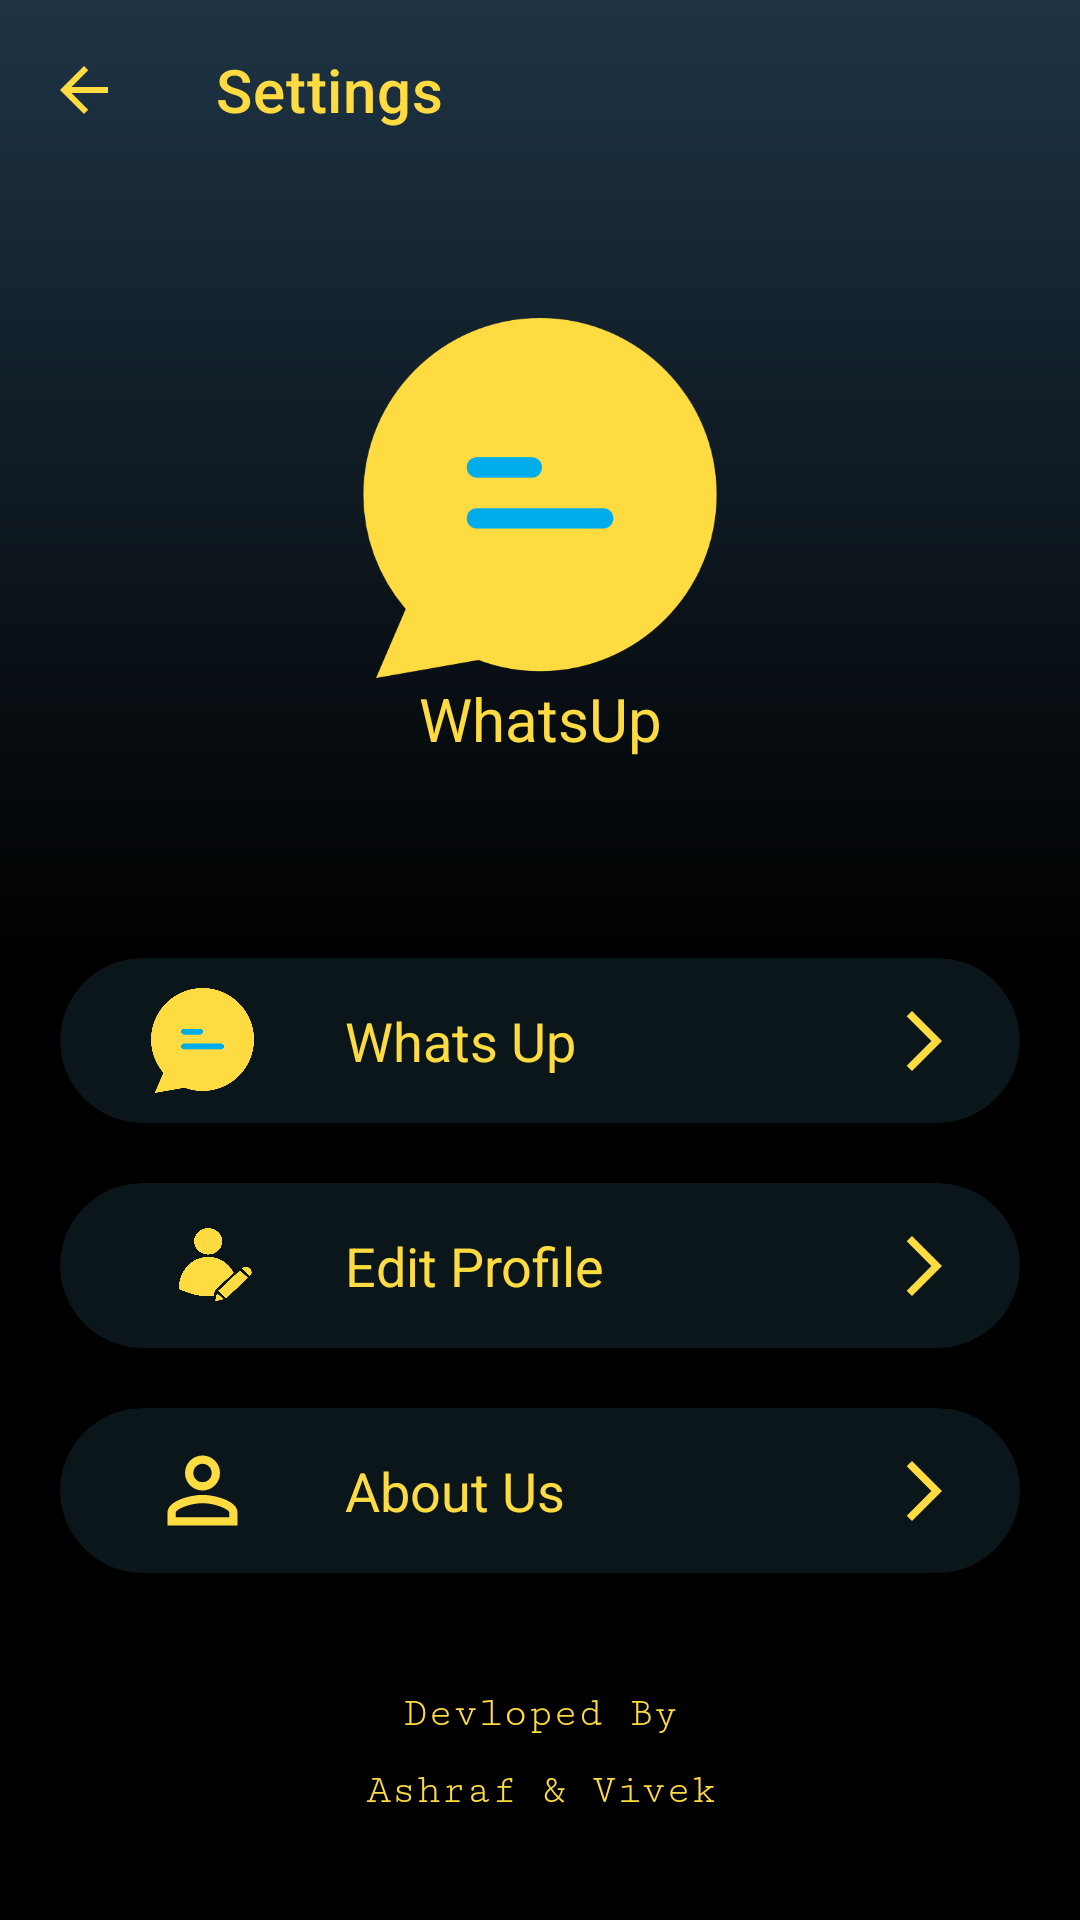

Where icons sit on this 1080 × 1920 app screen, as (x1=x1, y1=y1, x2=x2, y2=y2):
chat: (x1=360, y1=318, x2=720, y2=678), (x1=151, y1=988, x2=254, y2=1093)
edituser: (x1=179, y1=1228, x2=252, y2=1301)
person: (x1=167, y1=1455, x2=238, y2=1526)
